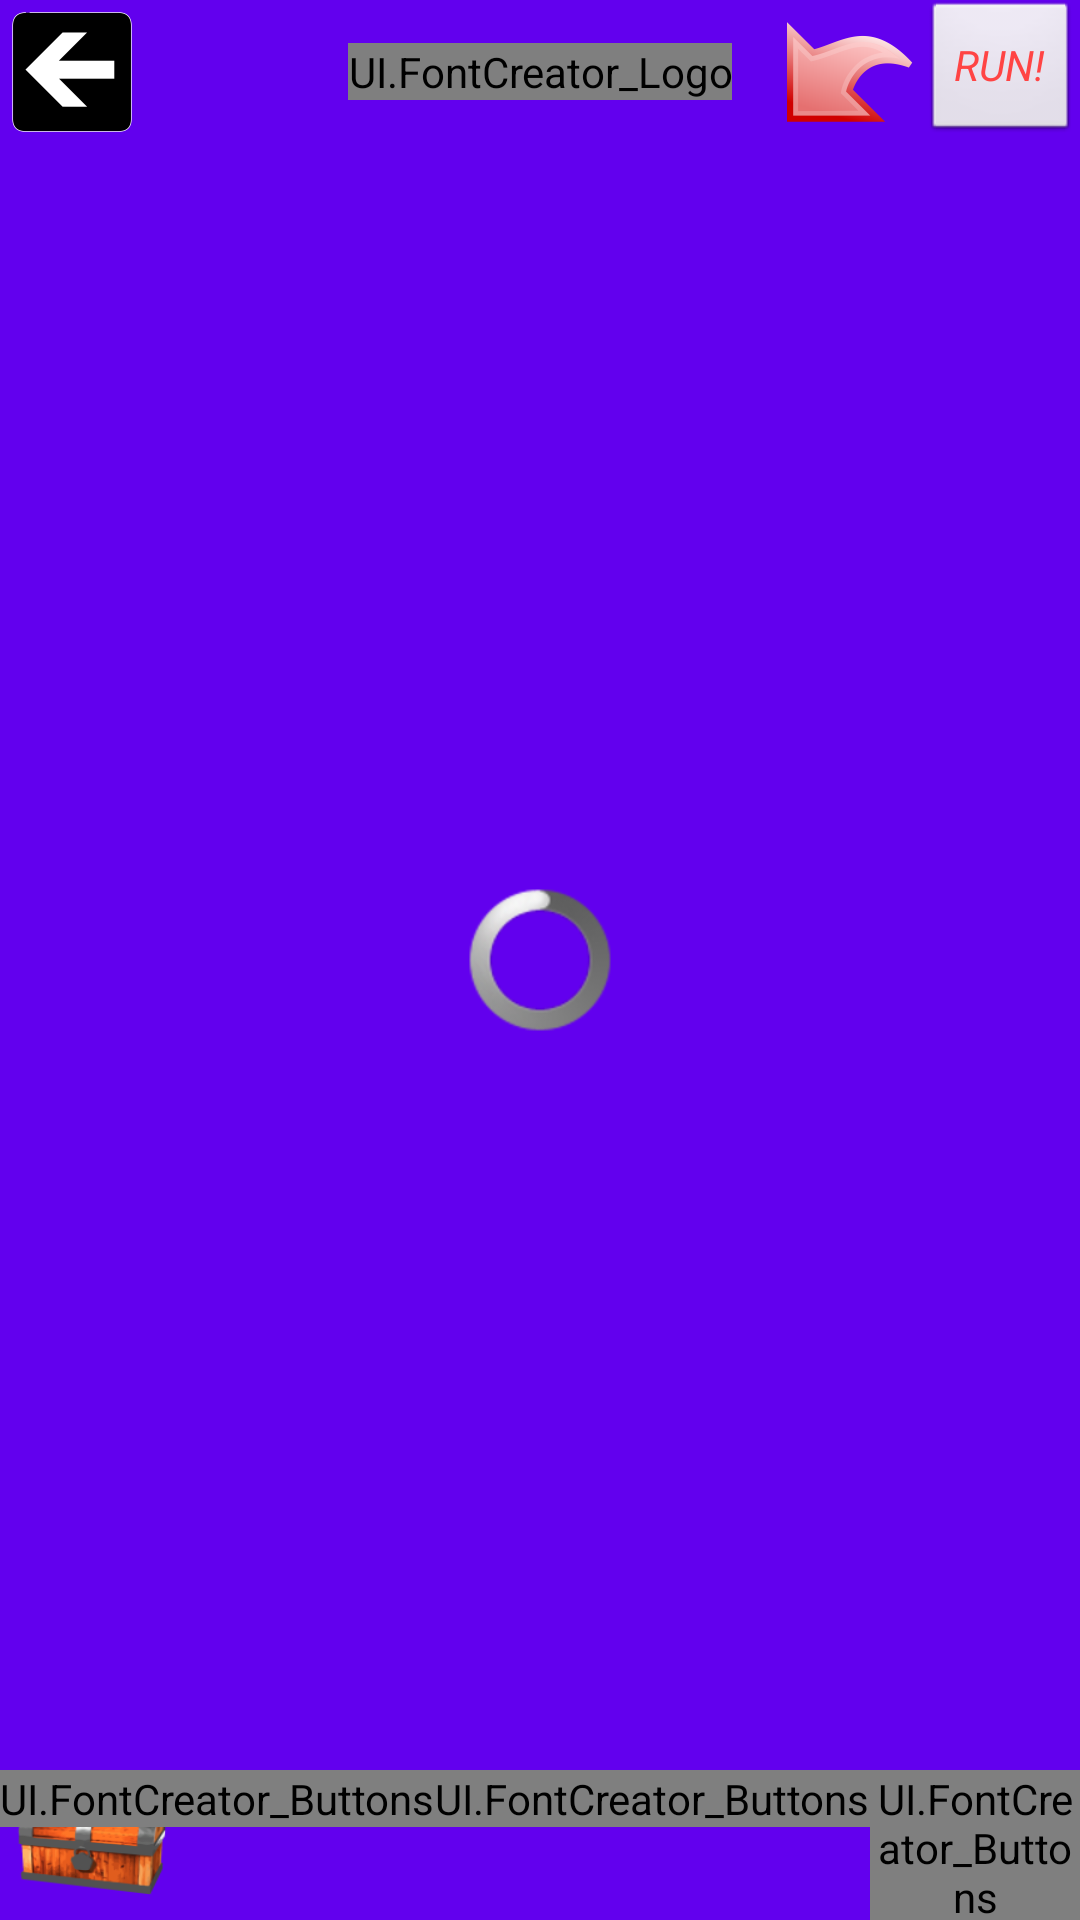

Icons on this 1080×1920 Android screen, each with its box as (x1, y1, x2, y2):
back tool bar: (12, 12, 132, 132)
undo: (787, 22, 912, 122)
